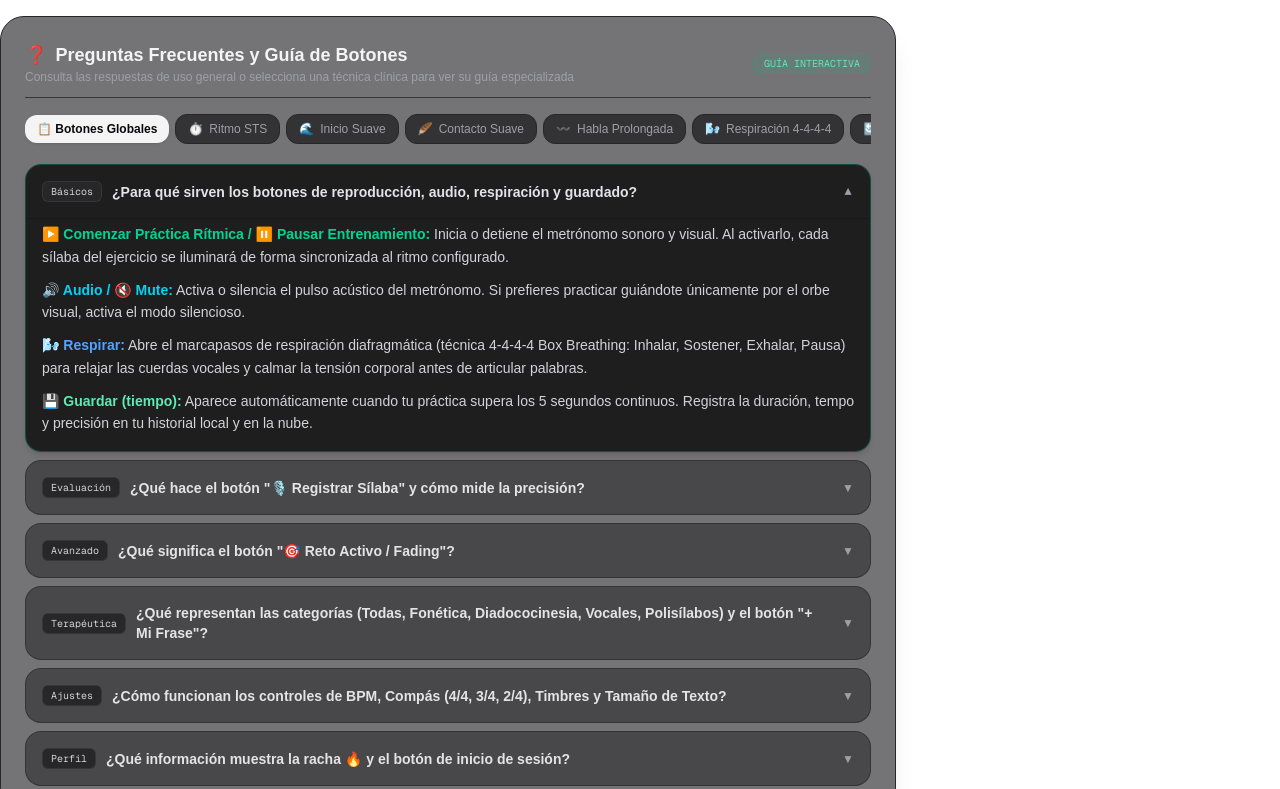
Test case: FaqAndMethodology Component - Unit Tests › debe explicar el funcionamiento del botón Registrar Sílaba y Fading
# Buscar y abrir la pregunta sobre Registrar Sílaba
Click the text "¿Qué hace el botón \"🎙️ Registrar Sílaba\" y cómo mide la precisión?".
click(357, 488)  # box 130,478 -> 585,498
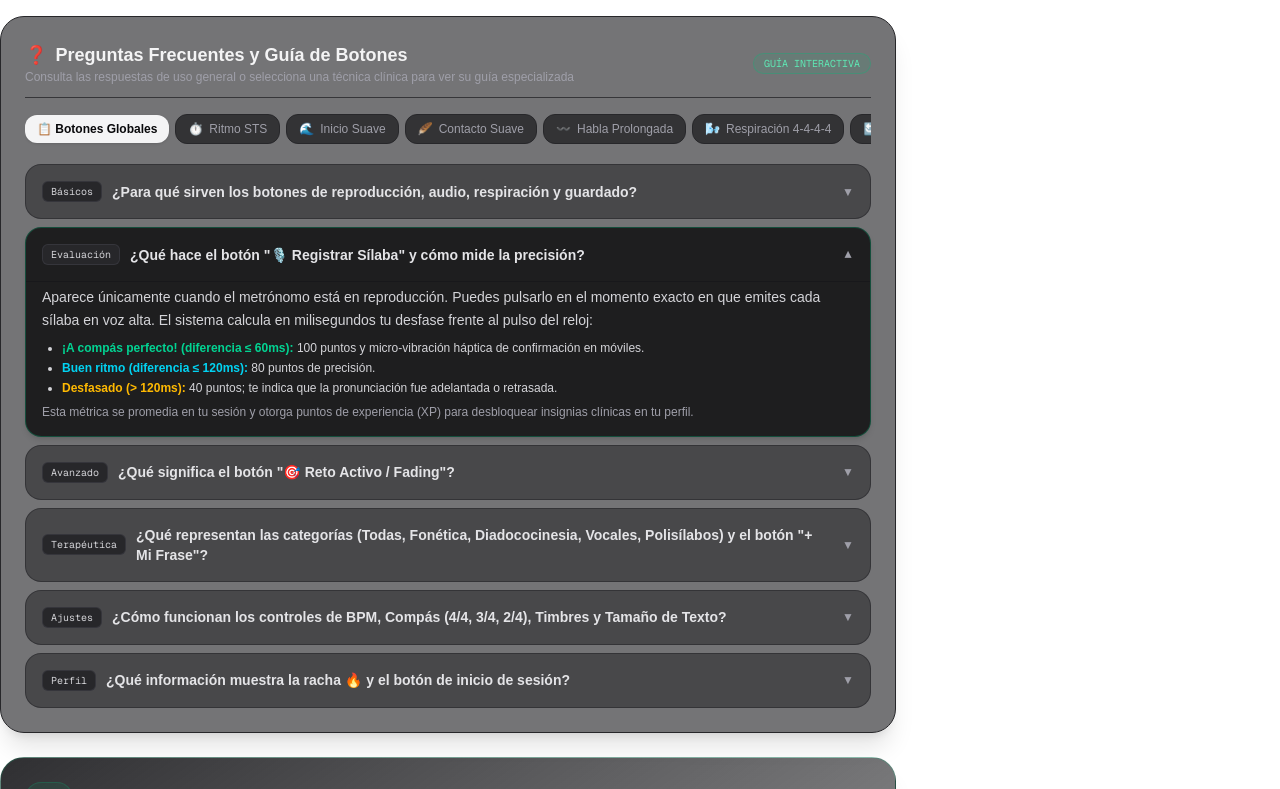
Expected: the text "¡A compás perfecto! (diferencia ≤ 60ms):" is shown, 62,340 -> 294,354
Expected: the list item "micro-vibración háptica" is shown, 294,340 -> 644,354
# Buscar y abrir la pregunta de Reto Activo / Fading
Click the text "¿Qué significa el botón \"🎯 Reto Activo / Fading\"?".
click(286, 472)  # box 118,462 -> 455,482
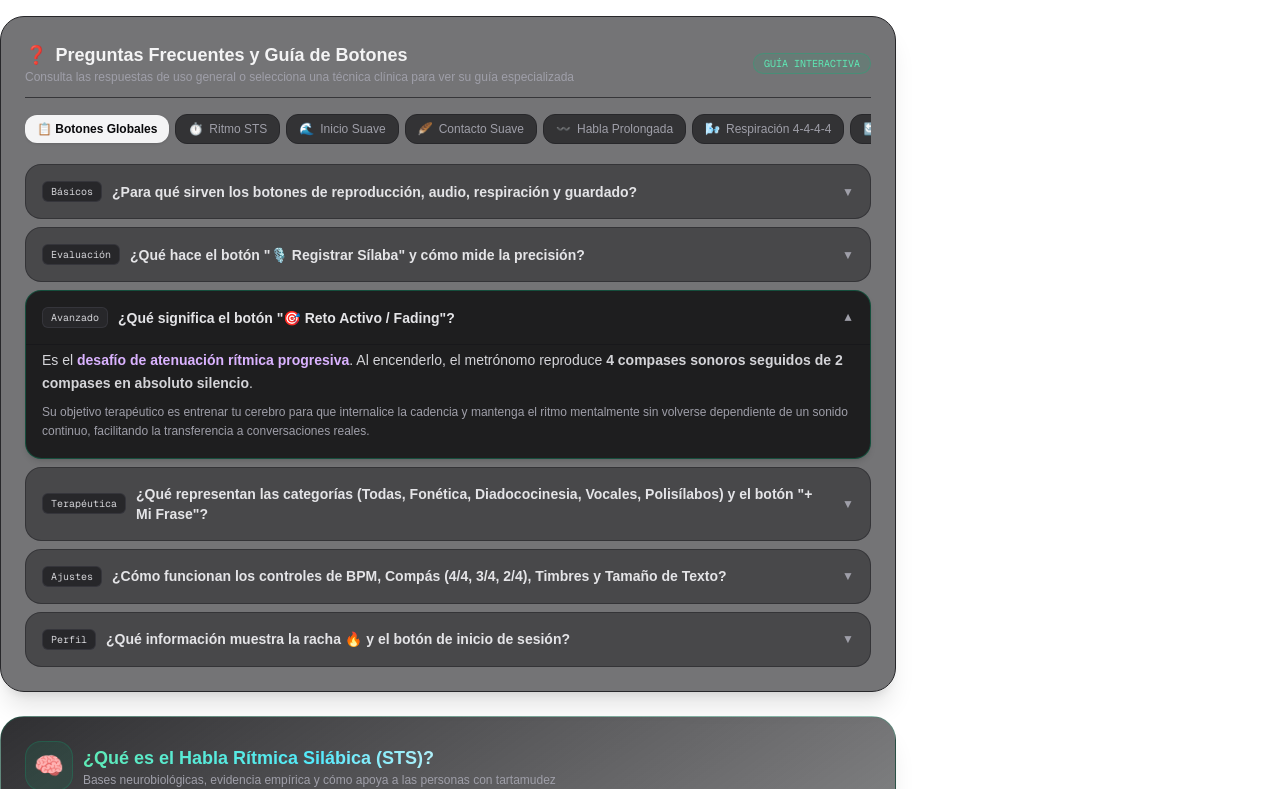
Expected: the text "4 compases sonoros seguidos de 2 compases en absoluto silencio" is shown, 42,352 -> 843,391
